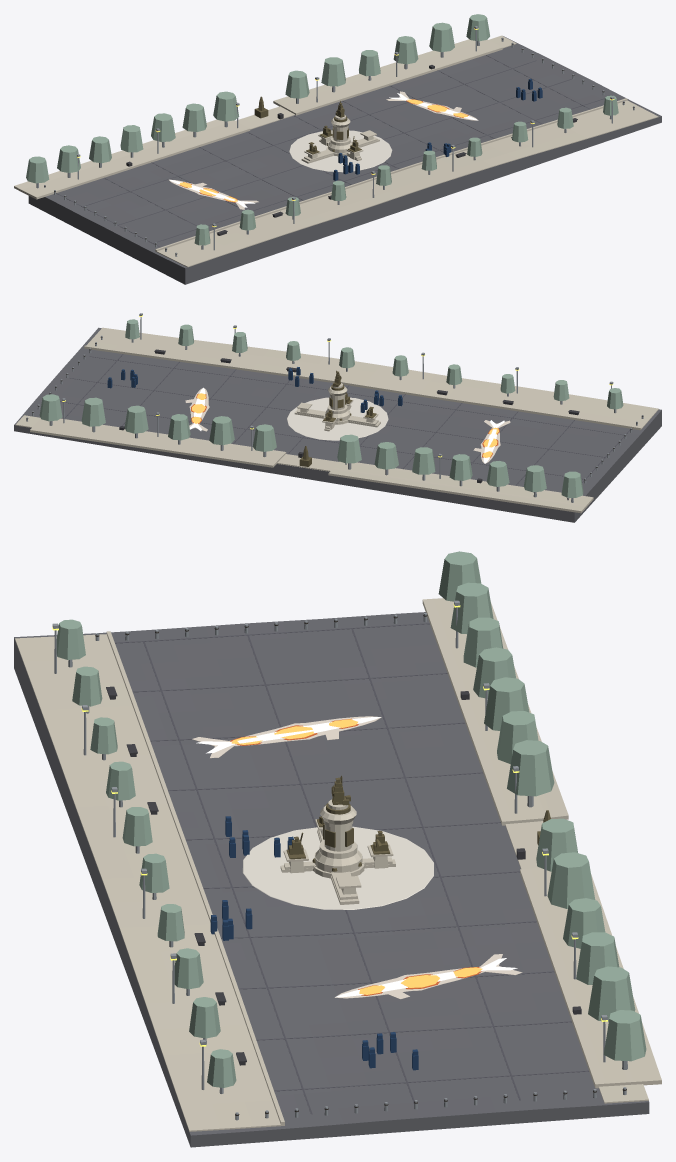
File: fulton-plaza.glb
3 renders of one model, top to bottom at view 1: azimuth 30°, elevation 25°; view 2: azimuth 150°, elevation 25°; view 3: azimuth 270°, elevation 25°, orthographic. The views are drawn at different scales.
Visible parts, largest first — view 1: deck, terrace_s, trees, bed_west_kerb, bed_east_kerb, joints, apron, monument, terrace_s_wall, koi_glow, walk_n, koi (+2 smaller); view 2: deck, terrace_s, trees, bed_west_kerb, bed_east_kerb, apron, joints, terrace_s_wall, monument, koi_glow, walk_n, people (+3 smaller); view 3: deck, terrace_s, trees, apron, joints, bed_east_kerb, bed_west_kerb, monument, koi_glow, terrace_s_wall, koi, people (+4 smaller).
Part boxes in pixels (x1,y1,x2,y2): deck: [28, 36, 661, 284]; terrace_s: [156, 100, 658, 267]; trees: [26, 14, 618, 249]; bed_west_kerb: [14, 119, 250, 199]; bed_east_kerb: [273, 39, 502, 115]; joints: [56, 55, 604, 247]; apron: [289, 130, 392, 172]; monument: [301, 101, 379, 163]; terrace_s_wall: [155, 98, 627, 251]; koi_glow: [169, 93, 477, 207]; walk_n: [236, 35, 516, 129]; koi: [168, 91, 478, 209]; deck: [14, 327, 661, 522]; terrace_s: [84, 327, 658, 429]; trees: [39, 319, 623, 502]; bed_west_kerb: [328, 461, 593, 513]; bed_east_kerb: [30, 418, 286, 467]; apron: [287, 397, 388, 440]; joints: [60, 354, 630, 485]; terrace_s_wall: [84, 345, 641, 430]; monument: [294, 370, 380, 431]; koi_glow: [189, 387, 504, 463]; walk_n: [15, 415, 338, 471]; people: [107, 367, 402, 412]; deck: [14, 612, 649, 1147]; terrace_s: [15, 634, 284, 1131]; trees: [56, 551, 646, 1093]; apron: [242, 826, 433, 909]; joints: [115, 623, 589, 1114]; bed_east_kerb: [520, 868, 661, 1088]; bed_west_kerb: [422, 598, 568, 825]; monument: [280, 775, 395, 904]; koi_glow: [196, 717, 517, 997]; terrace_s_wall: [106, 631, 284, 1125]; koi: [192, 716, 522, 999]; people: [210, 816, 418, 1070].
Bounding box in the file's own units: 128 × 13.19 × 67.63.
